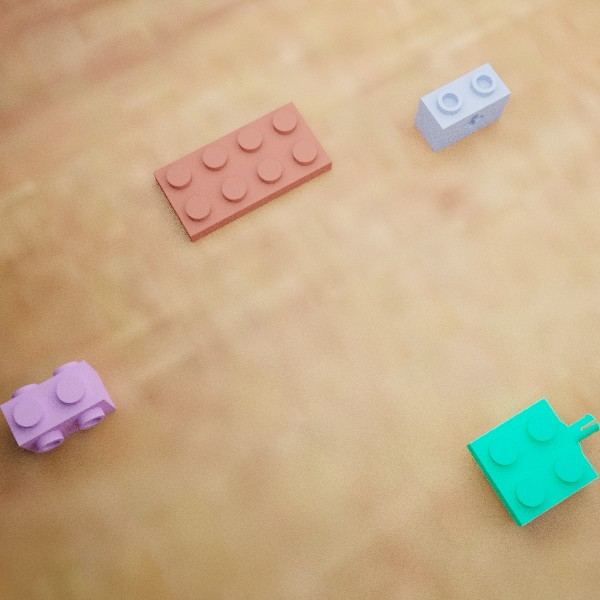lego: (152, 101, 332, 242), (465, 397, 600, 526), (0, 360, 116, 453), (413, 62, 511, 153)
